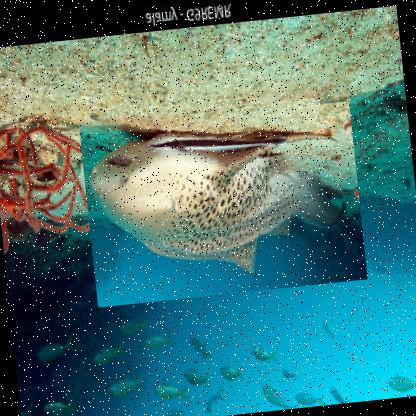zebra_shark: (79, 93, 368, 307)
